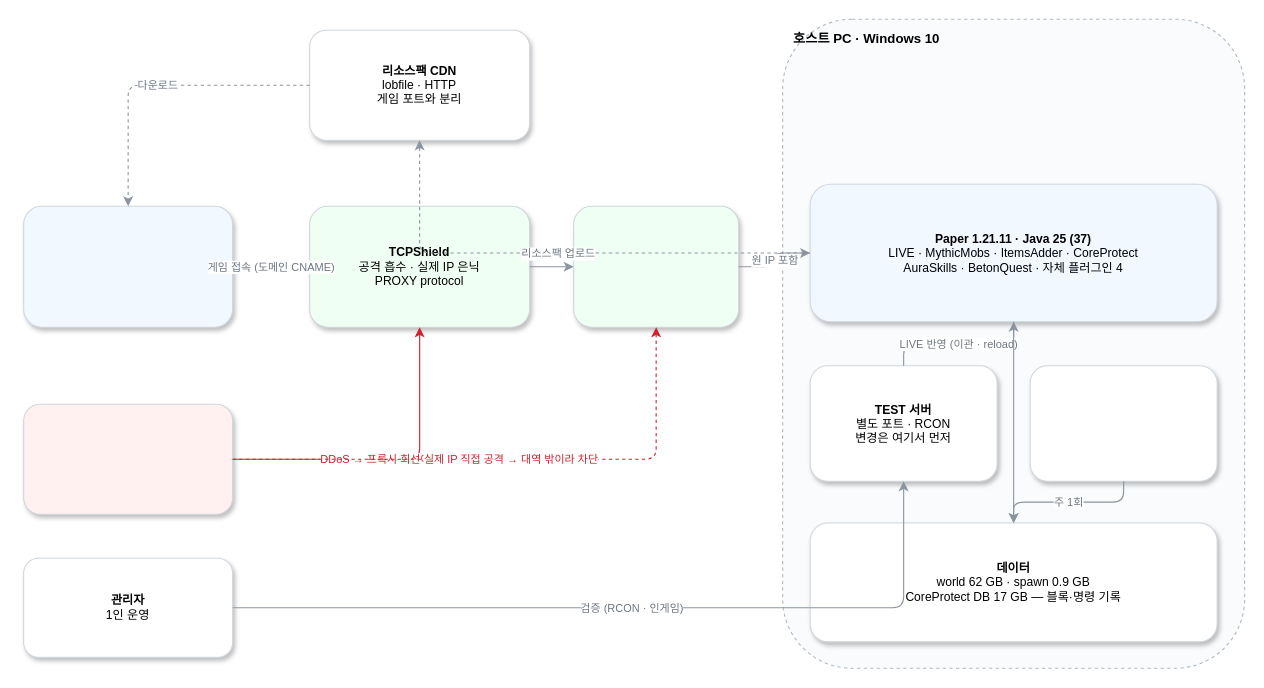
This 1264x688 diagram has some shape labels left out. The shapes that lost their labels are listed below. From the top down, each one's centre as x and y in pixels, then its label:
(128,268): 플레이어 총 접속 397명 · 유료 25 동시접속 10명 남짓
(656,268): 방화벽 25565 인바운드 프록시 대역만
(1124,424): 백업 PowerShell 예약 작업 주 1회 → 7z
(128,460): 공격자 DDoS
